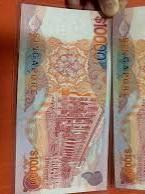10000SingaporeDollar: (21, 12, 107, 189)
